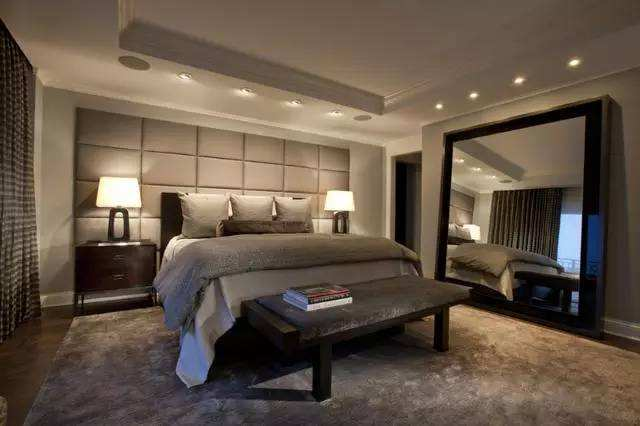床: (156, 221, 417, 382), (453, 241, 569, 308)
枕头: (174, 189, 312, 235)
灯: (91, 175, 140, 246), (321, 188, 353, 231), (282, 96, 307, 113), (233, 85, 258, 101), (564, 56, 582, 71), (326, 108, 346, 121), (509, 74, 527, 88), (464, 90, 481, 102), (430, 101, 446, 113), (175, 71, 192, 82)
